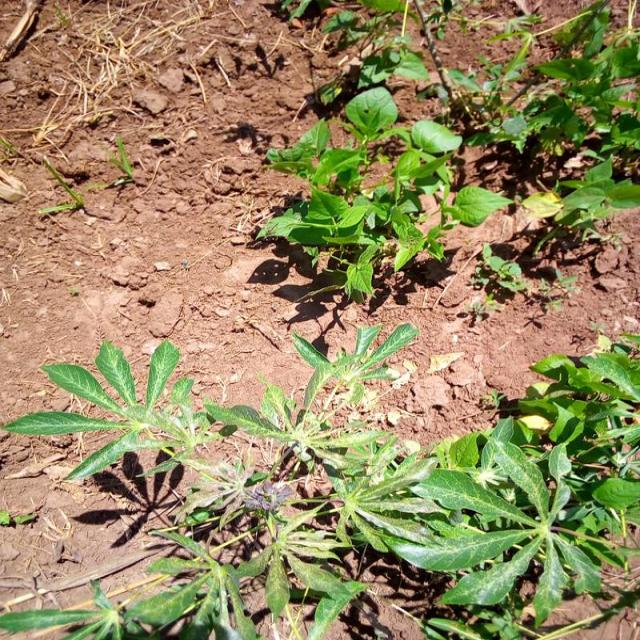cassava leaf: (344, 86, 398, 136), (411, 118, 462, 154)
